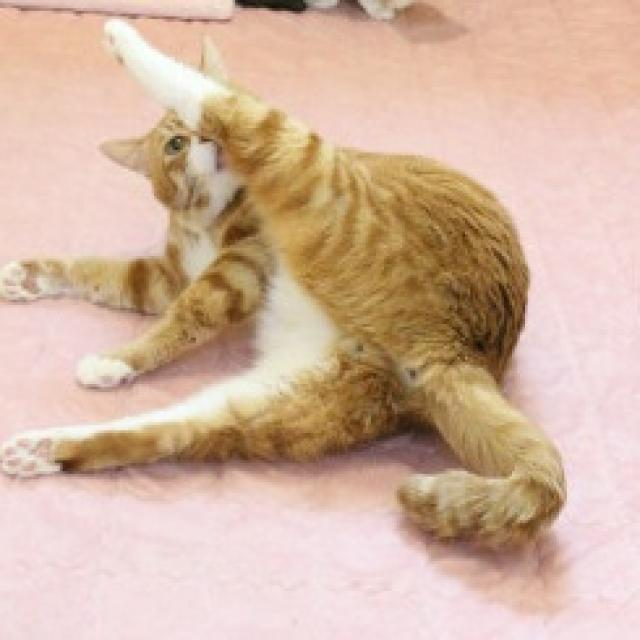cat: (0, 16, 567, 547)
